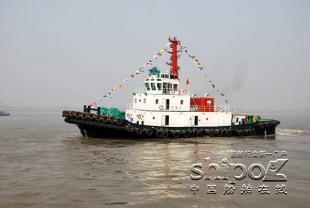otherboat: (57, 52, 280, 146)
